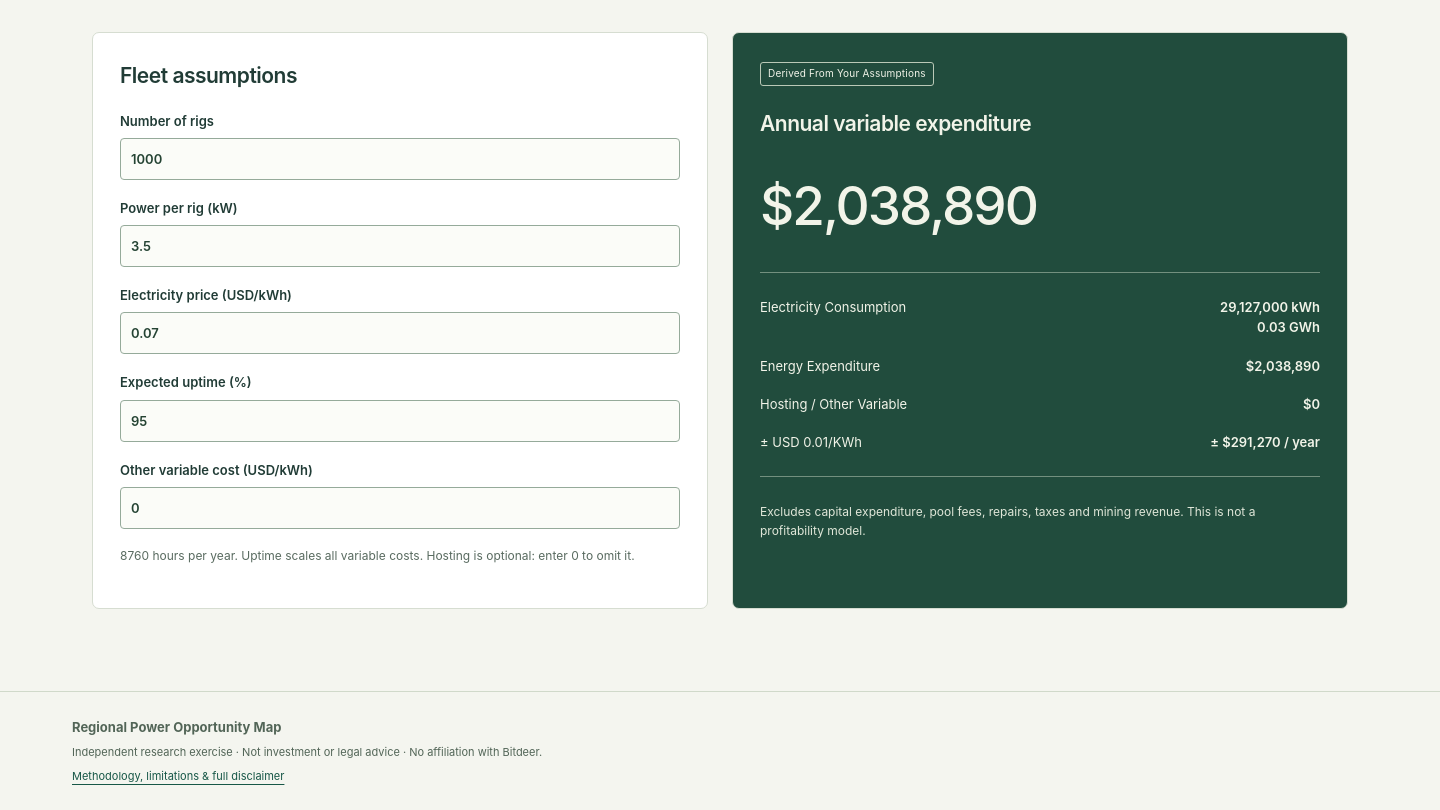
it: reports invalid calculator input and keeps zero valid
(page scrolled)
Replace the text in the number field labelled "Expected uptime (%)" with "101" at (400, 421), box [120, 400, 680, 442]
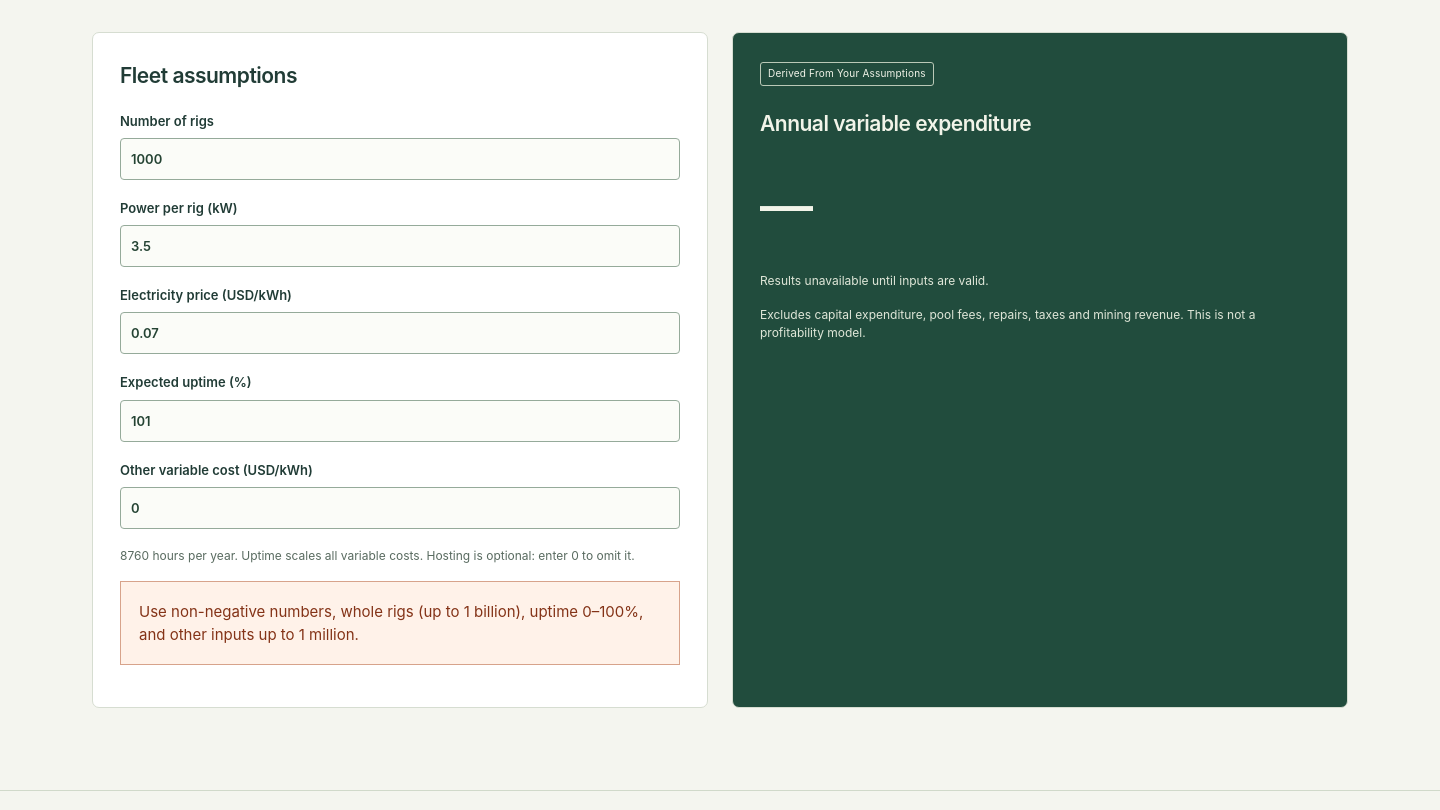
Now the message shows "uptime 0–100%", box [139, 602, 643, 644]
Replace the text in the number field labelled "Expected uptime (%)" with "0" at (400, 421), box [120, 400, 680, 442]
(page scrolled)
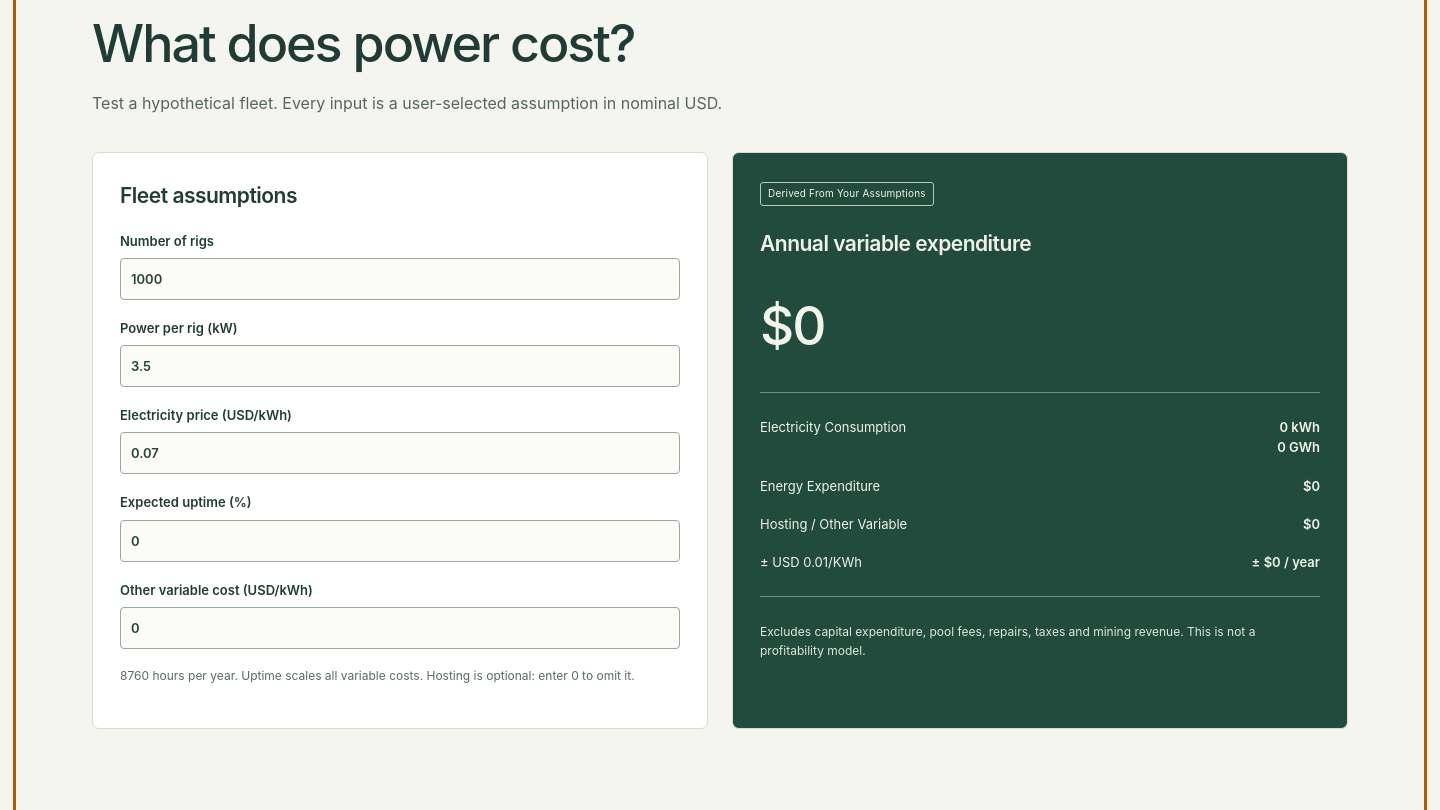
Now the message is gone
Now the 1st text "$0" is shown, box [760, 294, 824, 358]
